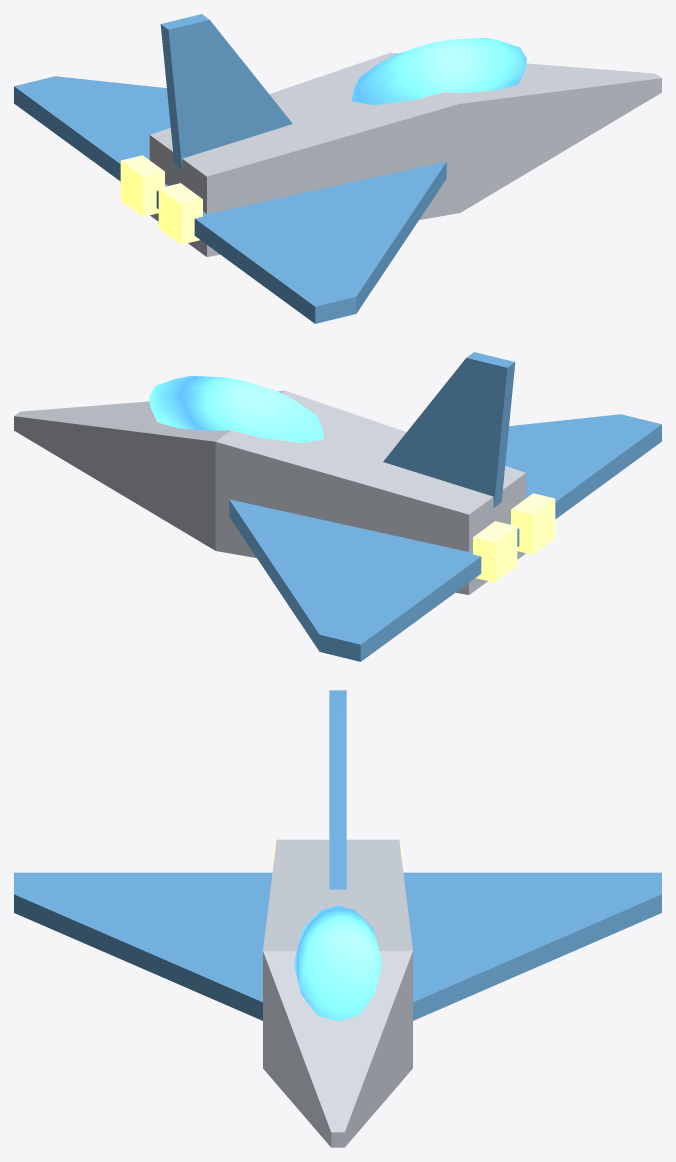
Rendered from player_arrow.glb.
3 views of the same model, one above another, from view 1: azimuth 30°, elevation 25°; view 2: azimuth 150°, elevation 25°; view 3: azimuth 270°, elevation 25° (orthographic). The views are drawn at different scales.
Visible parts, largest first — view 1: player_arrow; view 2: player_arrow; view 3: player_arrow.
Part boxes in pixels (bbox=[...]): player_arrow: bbox=[14, 14, 661, 323]; player_arrow: bbox=[14, 352, 661, 661]; player_arrow: bbox=[14, 690, 661, 1147].
Bounding box in the file's own units: 1.85 × 0.78 × 1.9.
